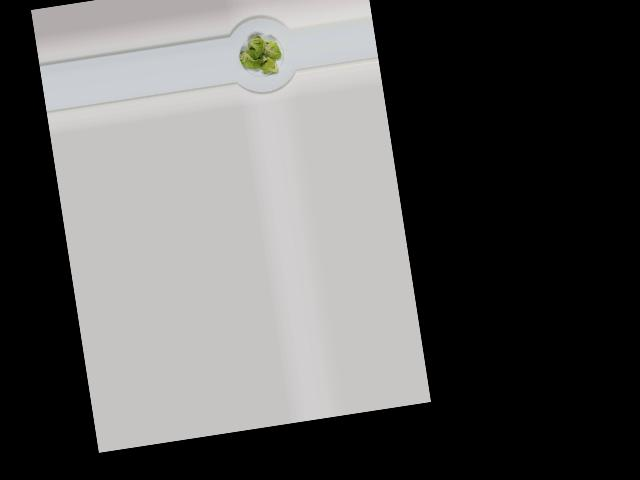lettuce: (232, 31, 283, 80)
